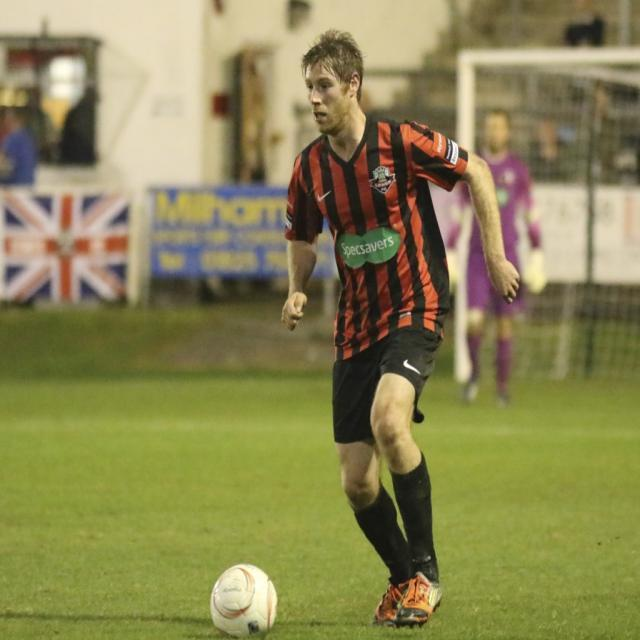football: (200, 563, 296, 640)
